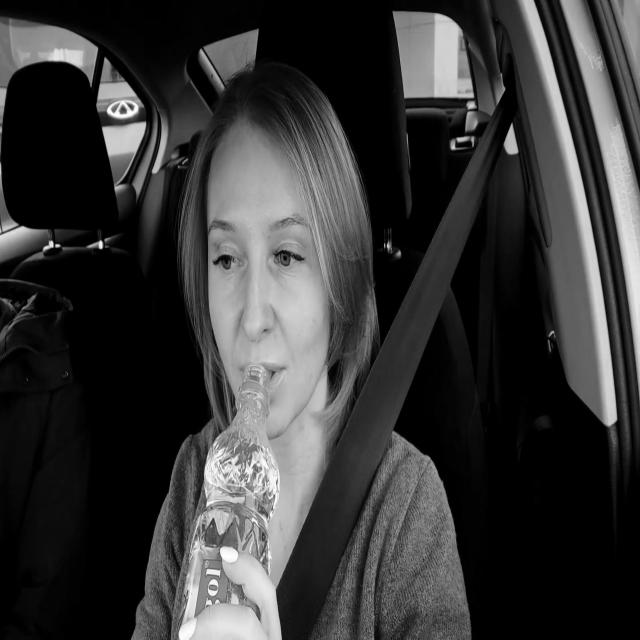Drinking: (175, 360, 282, 640)
Seatbelt: (278, 84, 523, 640)
